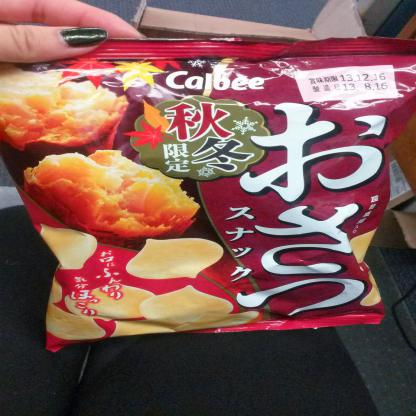potatochip: (0, 34, 416, 358)
